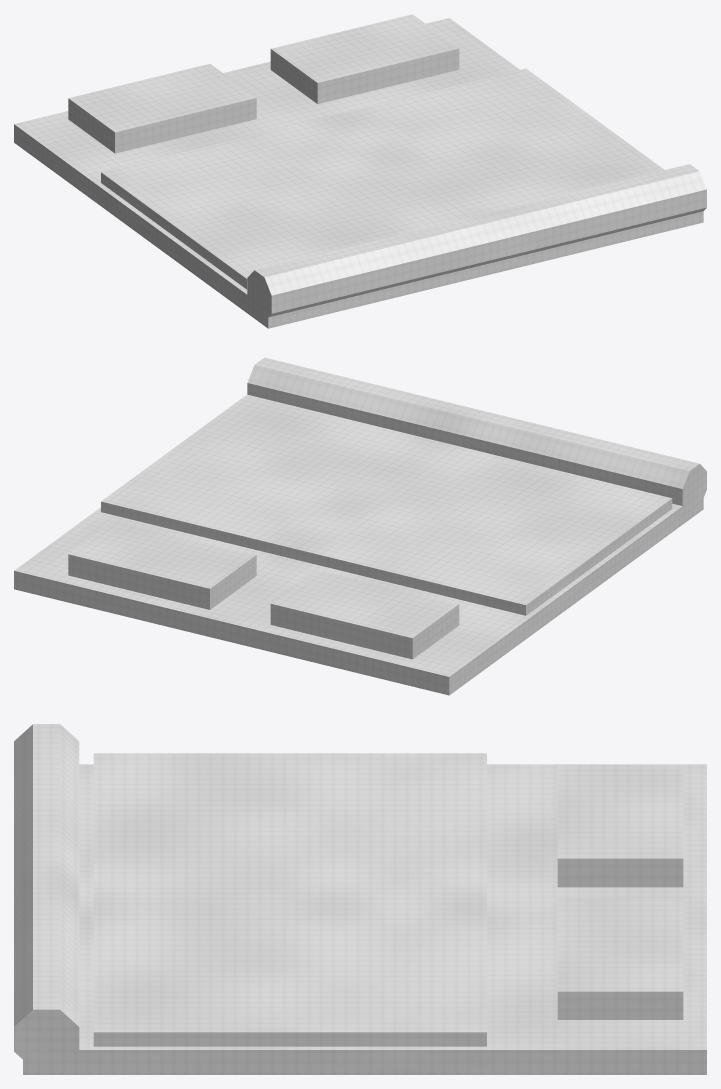
Rendered from bedroll_double.obj.
3 renders of one model, top to bottom at view 1: azimuth 30°, elevation 25°; view 2: azimuth 150°, elevation 25°; view 3: azimuth 270°, elevation 25°, orthographic. The views are drawn at different scales.
Parts seen in each view (by area): view 1: bedroll_double; view 2: bedroll_double; view 3: bedroll_double.
Part boxes in pixels (x1,y1,x2,y2): bedroll_double: (14, 14, 706, 328); bedroll_double: (14, 357, 706, 695); bedroll_double: (14, 724, 706, 1074).
Bounding box in the file's own units: 1.72 × 0.1831 × 1.76.
